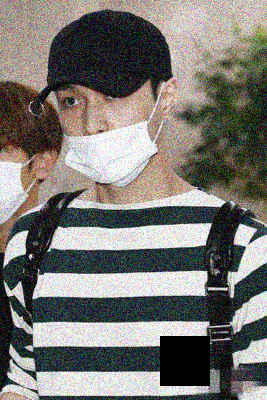mask_weared_incorrect: (57, 86, 162, 184)
